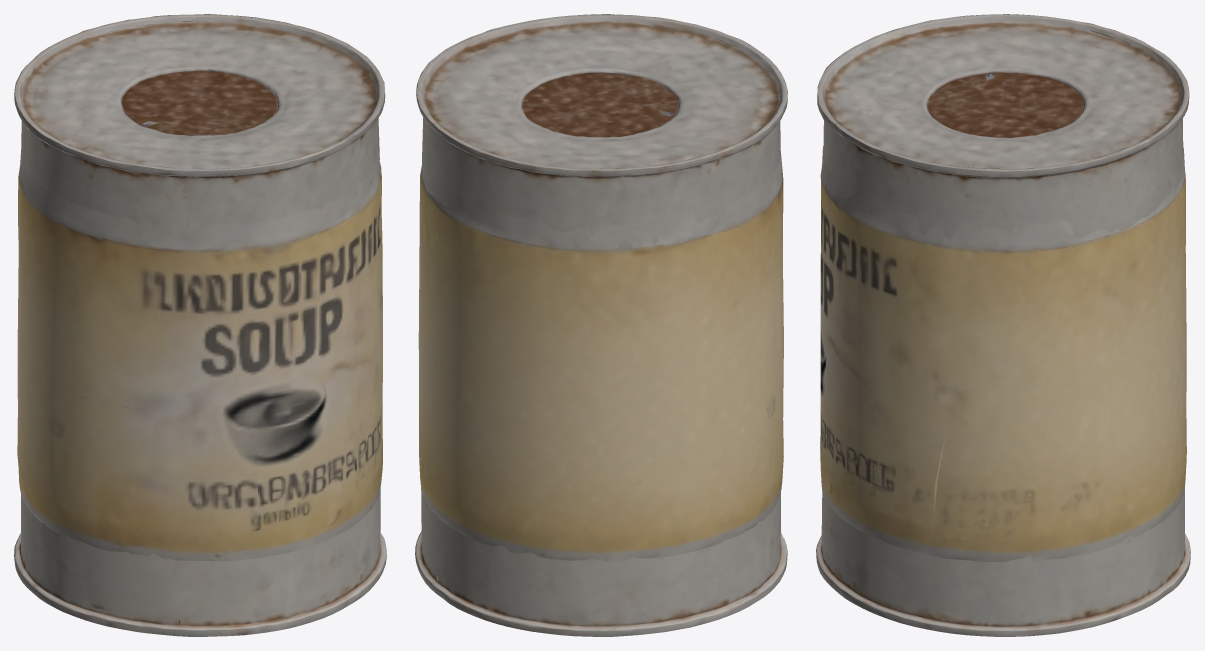
File: soup_can.glb
3 views of the same model, side by side, from view 1: azimuth 30°, elevation 25°; view 2: azimuth 150°, elevation 25°; view 3: azimuth 270°, elevation 25° (orthographic).
Visible parts, largest first — view 1: geometry_0; view 2: geometry_0; view 3: geometry_0.
Boxes of the visible parts, box(x1,y1,x2,y2) form: geometry_0: box(14, 14, 386, 636); geometry_0: box(415, 14, 787, 636); geometry_0: box(816, 14, 1190, 636).
Bounding box in the file's own units: 0.7278 × 1 × 0.7301.
Materials: 1 (1 with a texture image).
